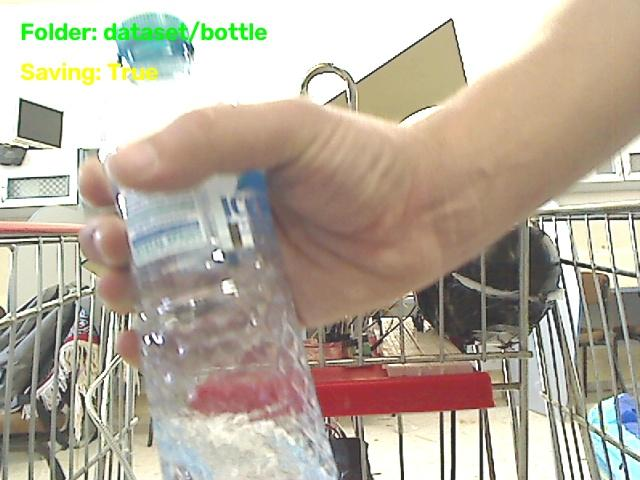Bottle: (114, 167, 337, 479), (117, 38, 192, 135)
can: (106, 103, 338, 196)
